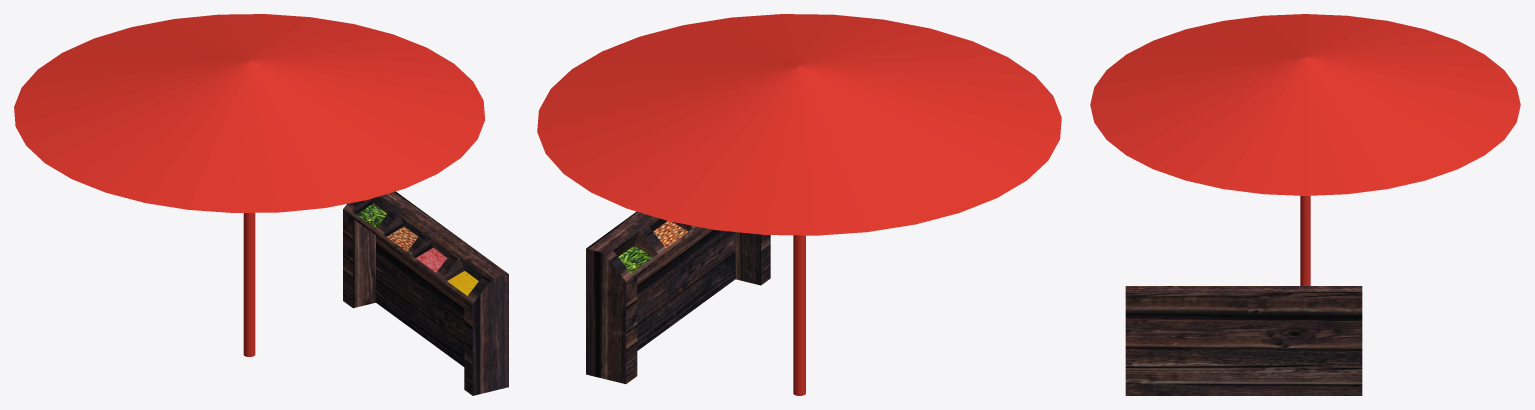
The model's file is шаурма.fbx.
The picture shows the model from 3 angles, left to right: view 1: azimuth 30°, elevation 25°; view 2: azimuth 150°, elevation 25°; view 3: azimuth 270°, elevation 25°; orthographic projection. The views are drawn at different scales.
Visible parts, largest first — view 1: Cylinder.001, Cylinder; view 2: Cylinder.001, Cylinder; view 3: Cylinder.001, Cylinder.
Part boxes in pixels (x1,y1,x2,y2): Cylinder.001: (14,14,484,356); Cylinder: (343,191,508,395); Cylinder.001: (537,14,1061,395); Cylinder: (586,211,770,384); Cylinder.001: (1090,14,1520,285); Cylinder: (1125,286,1362,395).
Size of the model in its own units: 758 by 520 by 758.
2 materials, 1 textured.
